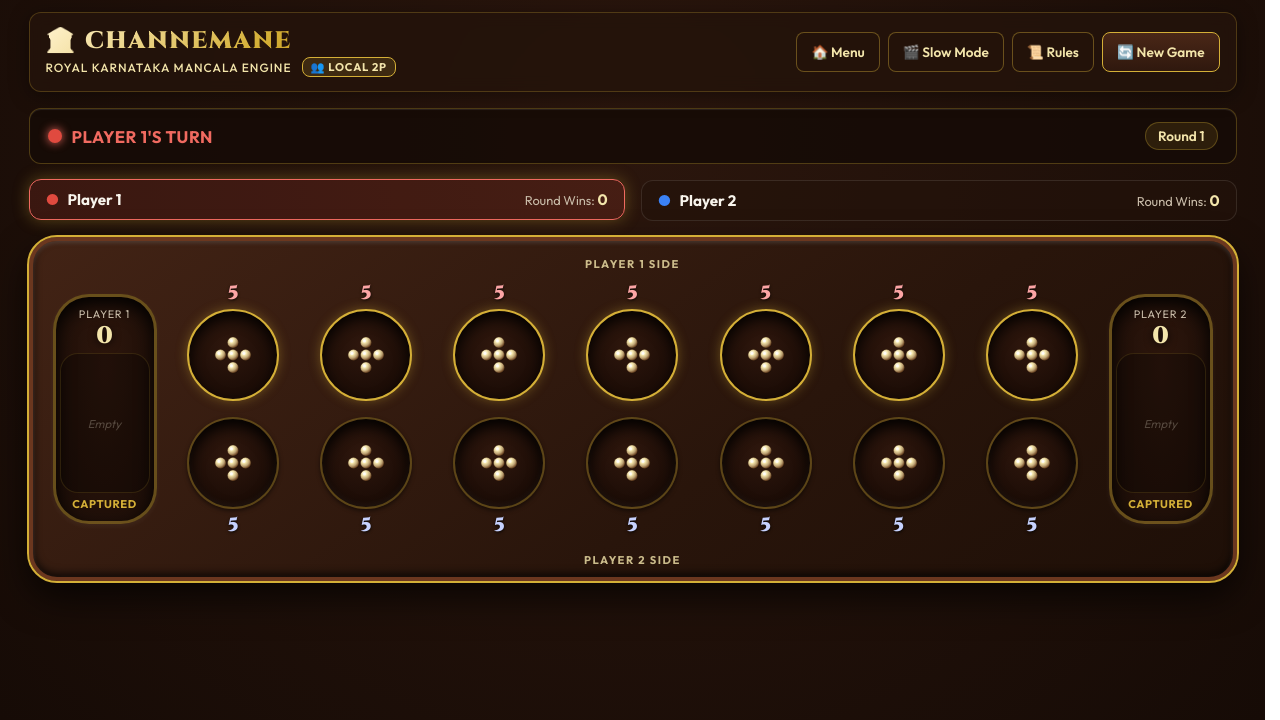
Test: App Integration with Channemane Engine › resets the board when New Game is clicked
The width and height of the screenshot is (1280, 720).
// Play a move
What coordinates should you click on to do the following:
click the button with test id "pit-0"
I would click on:
 (233, 355)
Its box is [187,309,279,401].
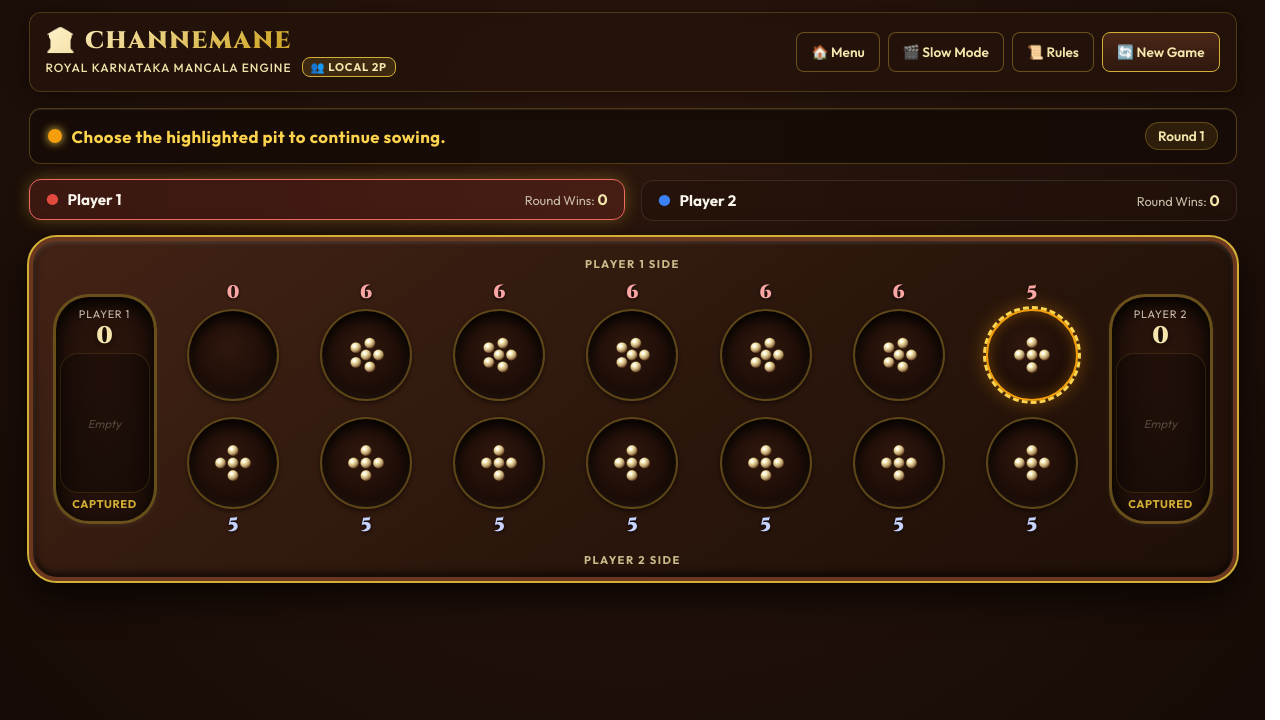
Result: the button with test id "pit-0" does not have attribute data-seeds="5" at [187,309,279,401]
// Reset game
What coordinates should you click on to do the following:
click the button with test id "restart-btn"
I would click on:
 (1161, 52)
Its box is [1102,32,1220,72].
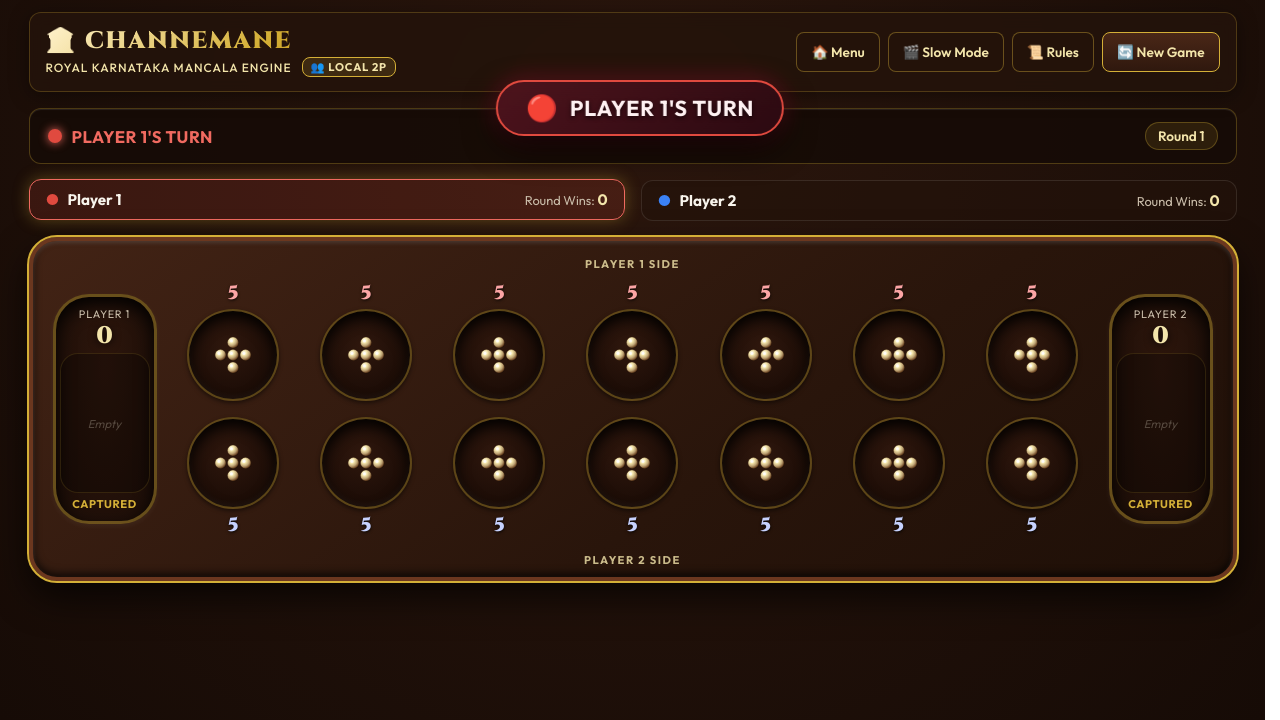
Result: the element with test id "turn-indicator" reads "PLAYER 1'S TURN" at [72,126,213,146]
